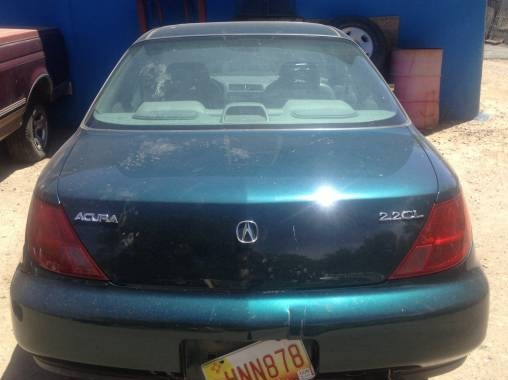acura: (1, 16, 489, 376)
